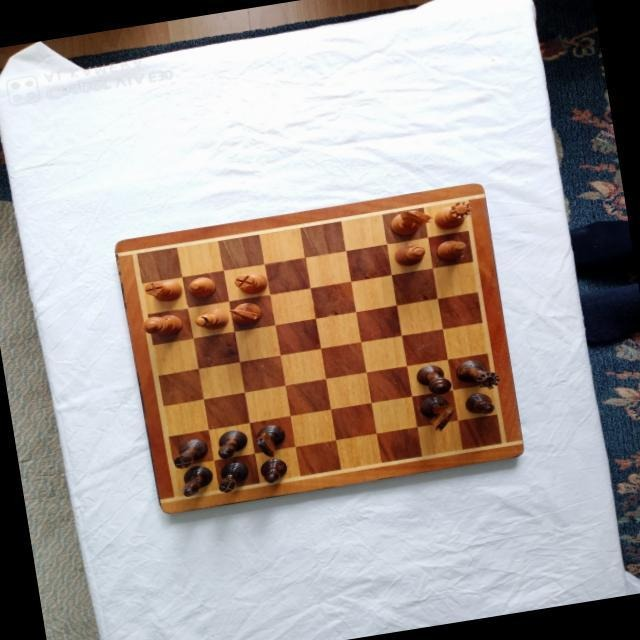black-bishop: (179, 463, 215, 496), (214, 428, 250, 459)
black-king: (415, 361, 453, 397)
black-knight: (417, 392, 456, 433), (252, 422, 287, 458)
black-pawn: (463, 390, 496, 416), (259, 456, 289, 482)
black-queen: (454, 355, 502, 393)
black-rook: (169, 436, 209, 468), (214, 459, 249, 493)
white-bishop: (193, 307, 229, 332), (393, 241, 427, 267)
white-king: (140, 312, 183, 340)
white-knight: (388, 205, 435, 236), (228, 300, 263, 327)
white-pawn: (187, 273, 217, 299), (436, 238, 468, 262)
white-queen: (432, 199, 476, 231)
white-rook: (144, 276, 183, 304), (233, 270, 267, 297)
